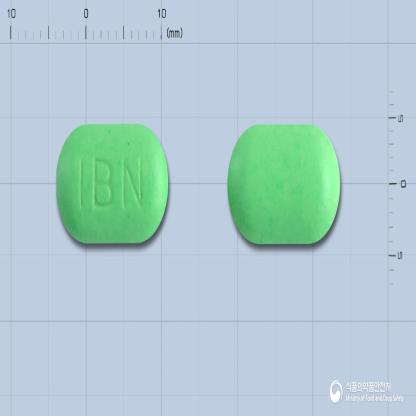pill: (53, 122, 171, 246), (226, 122, 342, 245)
